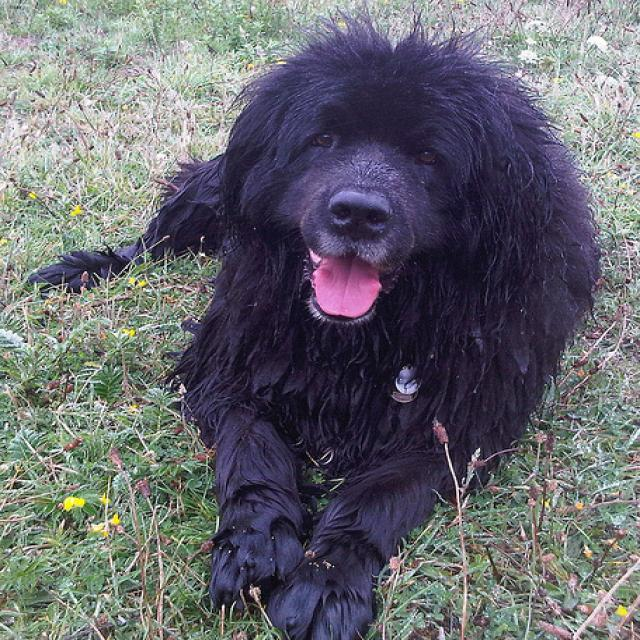dog-newfoundland: (15, 18, 604, 637)
